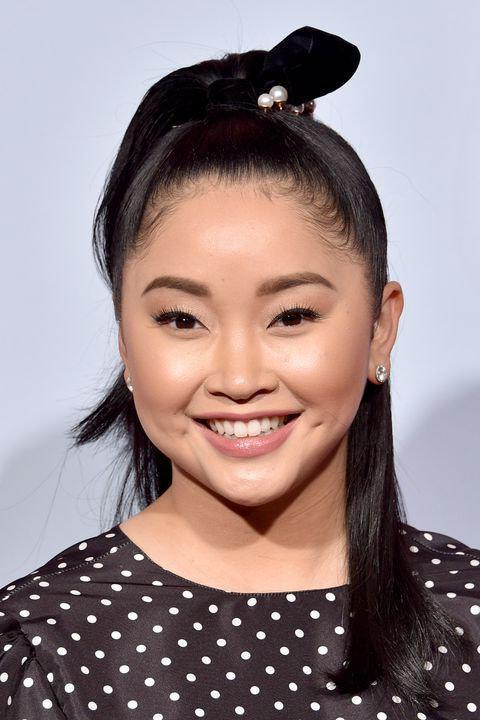Sober: (132, 192, 352, 485)
